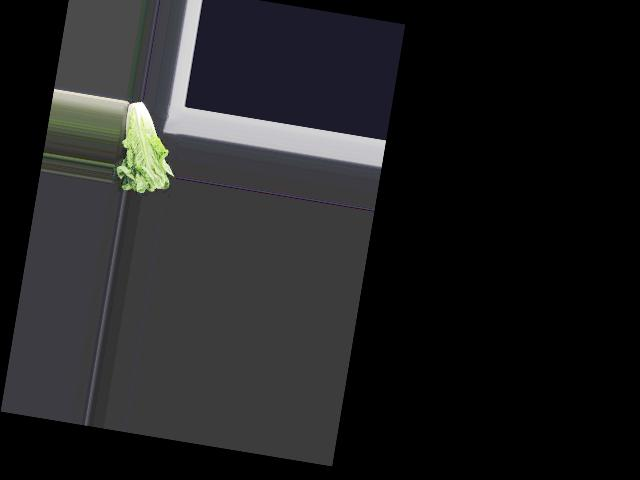lettuce: (112, 98, 184, 199)
